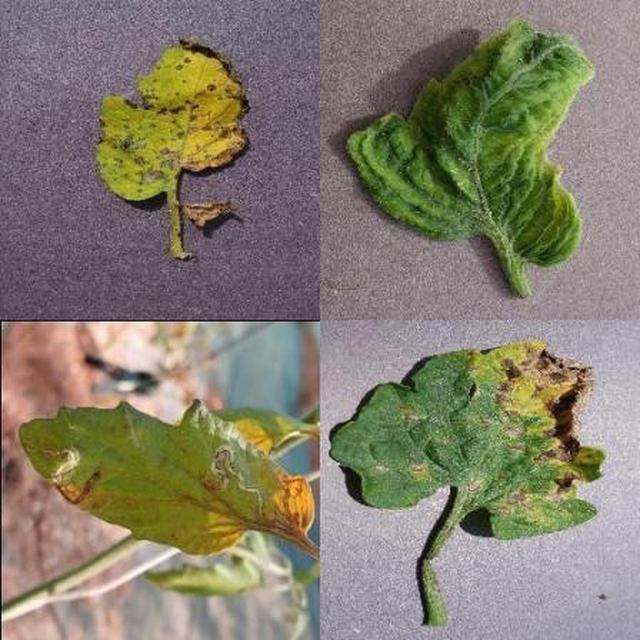Septoria Leaf: (218, 169, 640, 640)
